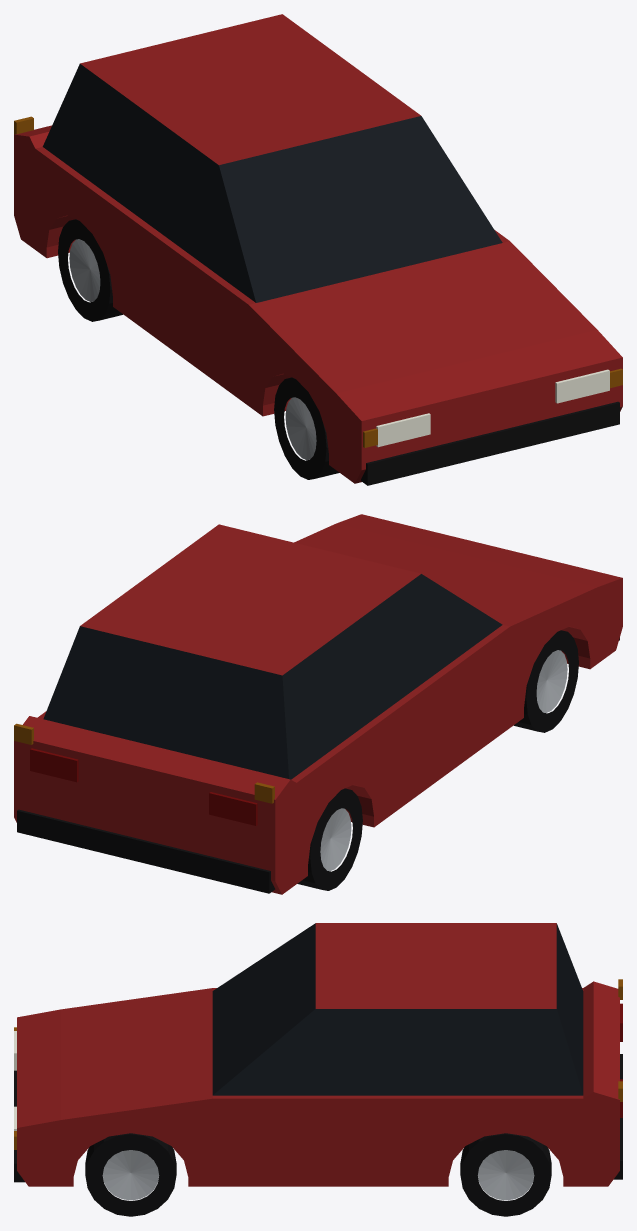
File: body.glb
The picture shows the model from 3 angles, top to bottom: view 1: azimuth 30°, elevation 25°; view 2: azimuth 150°, elevation 25°; view 3: azimuth 270°, elevation 25°; orthographic projection. The views are drawn at different scales.
Visible parts, largest first — view 1: cabin, shell, trim, wheel_RR, wheel_RF, headlight_L, headlight_R; view 2: cabin, shell, trim, wheel_RF, wheel_RR, taillight_L, taillight_R; view 3: shell, cabin, wheel_LF, wheel_LR, trim.
Boxes of the visible parts, bbox=[...] form: cabin: bbox=[42, 14, 502, 302]; shell: bbox=[14, 125, 622, 483]; trim: bbox=[361, 401, 619, 485]; wheel_RR: bbox=[58, 219, 122, 321]; wheel_RF: bbox=[274, 377, 339, 479]; headlight_L: bbox=[555, 369, 609, 403]; headlight_R: bbox=[376, 413, 430, 447]; cabin: bbox=[43, 524, 502, 779]; shell: bbox=[14, 514, 622, 894]; trim: bbox=[17, 637, 619, 893]; wheel_RF: bbox=[514, 630, 578, 732]; wheel_RR: bbox=[297, 788, 362, 890]; taillight_L: bbox=[30, 748, 78, 782]; taillight_R: bbox=[209, 792, 257, 825]; shell: bbox=[17, 981, 619, 1186]; cabin: bbox=[212, 923, 583, 1095]; wheel_LF: bbox=[85, 1133, 176, 1216]; wheel_LR: bbox=[460, 1133, 551, 1216]; trim: bbox=[14, 1054, 622, 1182].
Bounding box in the file's own units: 1.78 × 1.48 × 4.14.
